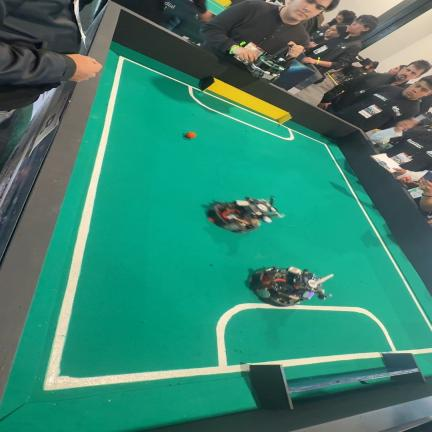cancha: (0, 45, 432, 432), (292, 377, 395, 402)
limites: (43, 56, 432, 391), (288, 305, 432, 354), (270, 352, 381, 367)
pelota: (186, 132, 196, 138)
porteria: (250, 352, 425, 409), (208, 79, 290, 124)
robot: (250, 266, 333, 306), (207, 196, 284, 233), (248, 47, 289, 81)
